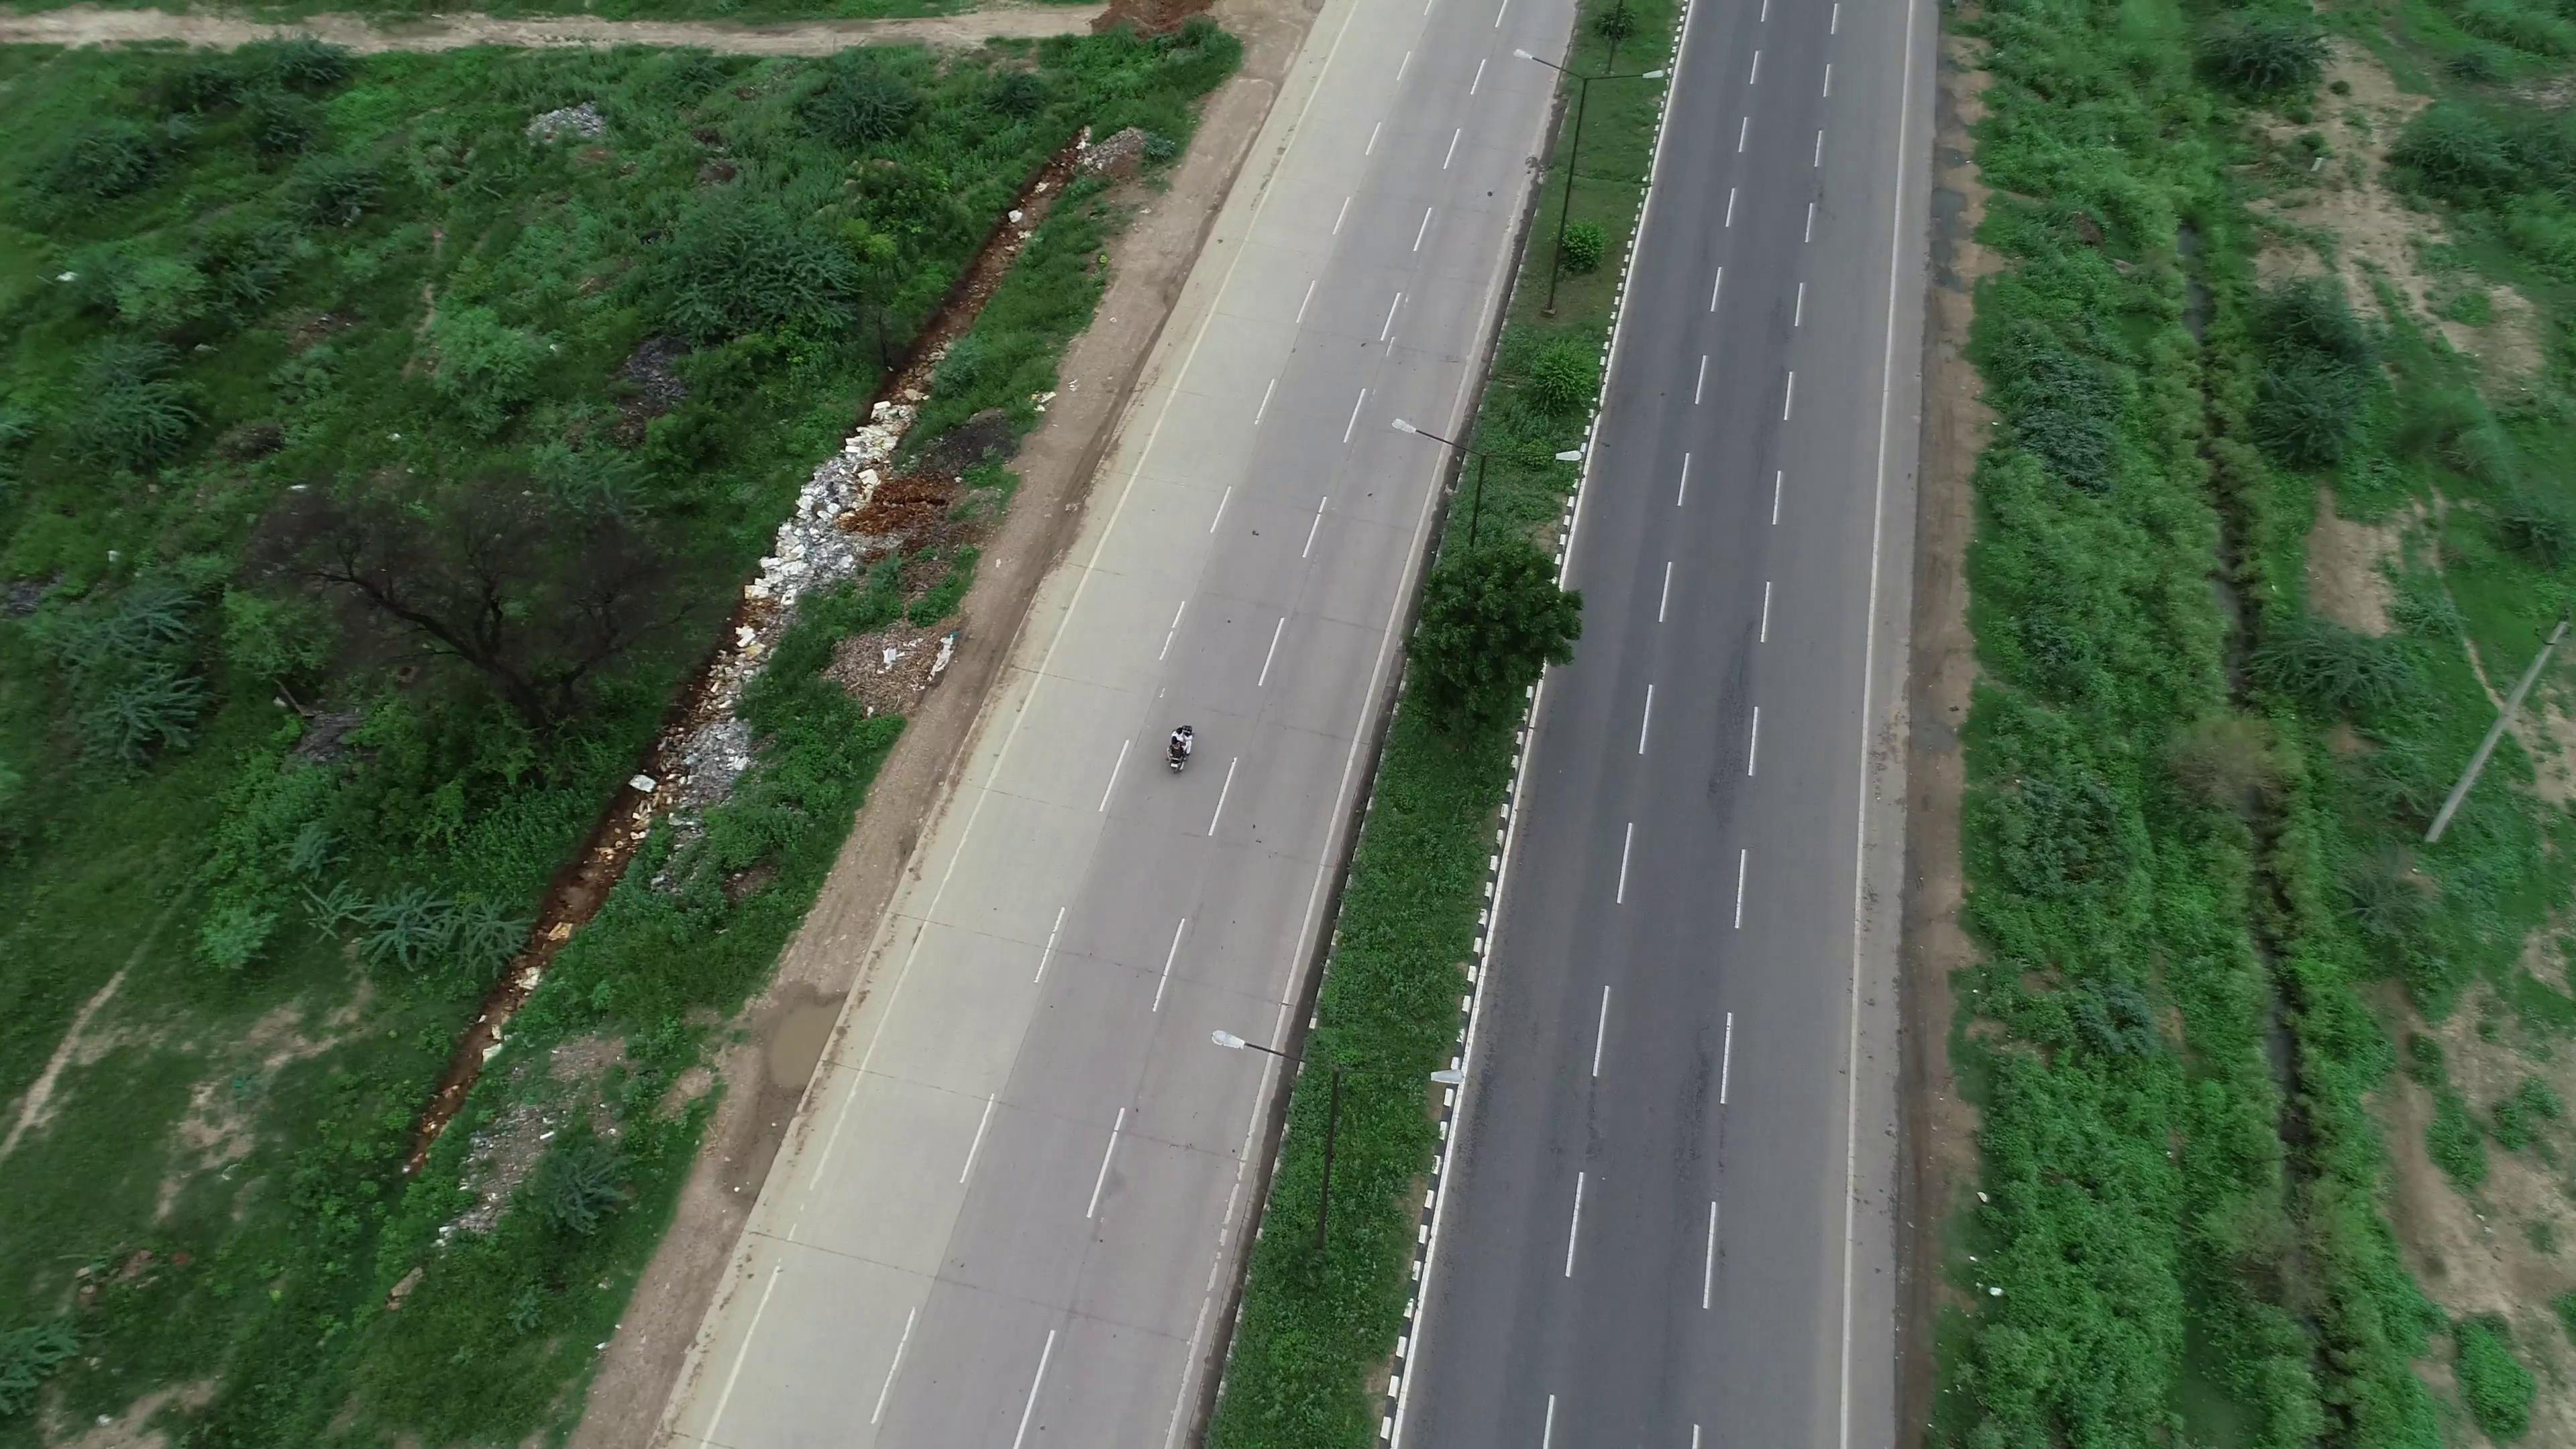Ravelling: (1693, 621, 1760, 814), (1668, 1023, 1720, 1244)
Road_side_garbage: (738, 407, 916, 619)
